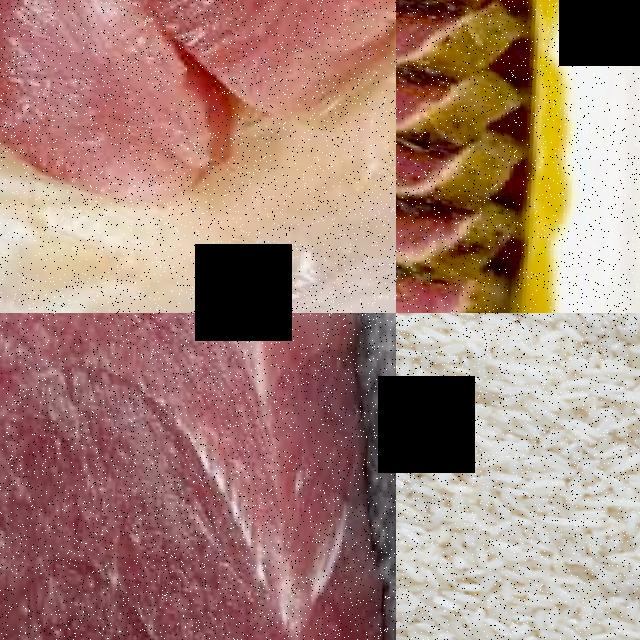tuna: (0, 313, 396, 640), (0, 0, 229, 206), (35, 0, 396, 125)
white rice: (396, 313, 640, 640)
